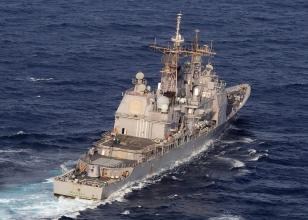warship: (48, 30, 252, 197)
